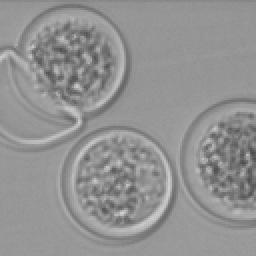picoshell: (56, 126, 176, 248), (8, 4, 128, 116), (180, 100, 254, 224), (0, 50, 84, 145)
